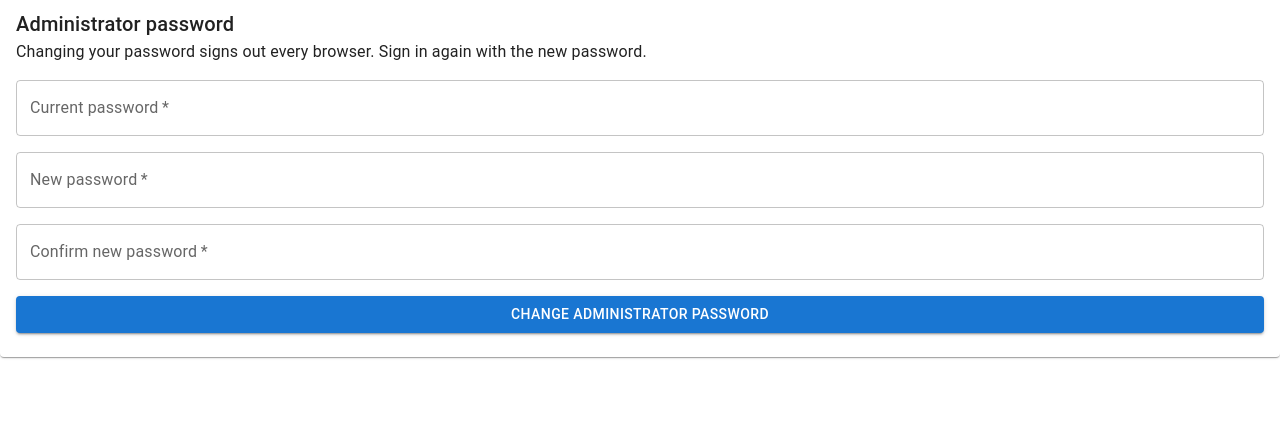
Scenario: rejects mismatched confirmation before submitting secrets
The image size is (1280, 424).
Type "current-example-password" into the password field labelled "Current password *" at (640, 108), box [16, 80, 1264, 136]
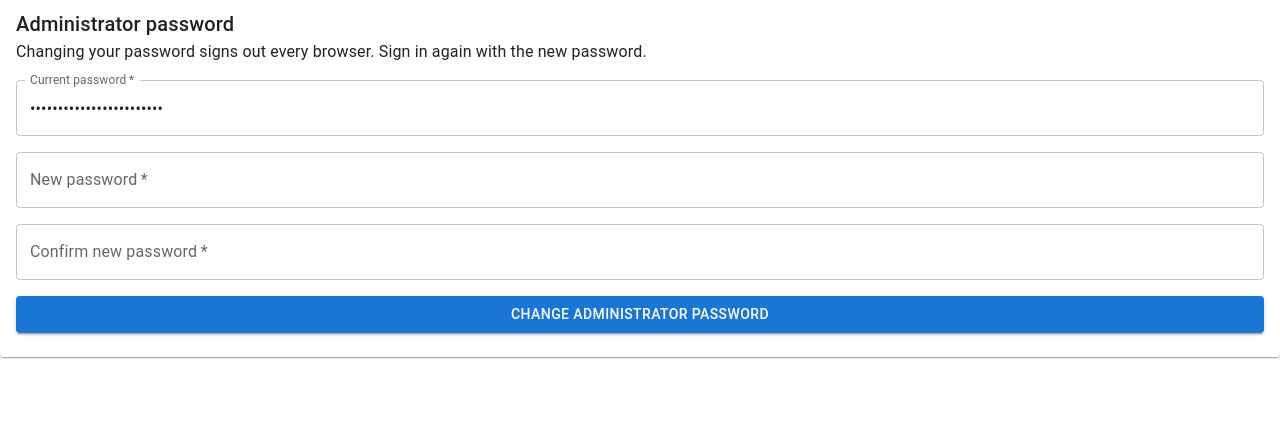
Type "new-example-password" into the password field labelled "New password *" at (640, 180), box [16, 152, 1264, 208]
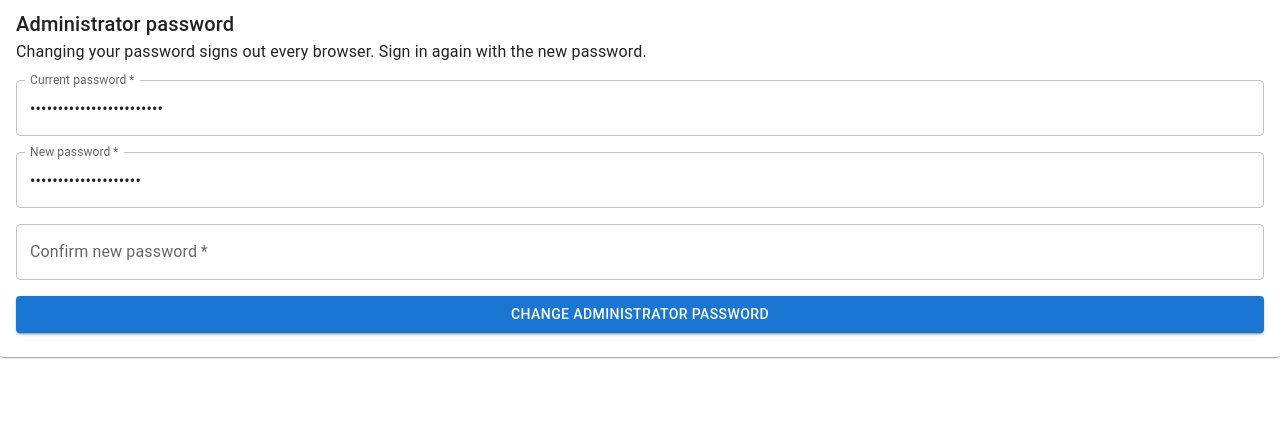
Type "different-password" into the password field labelled "Confirm new password *" at (640, 252), box [16, 224, 1264, 280]
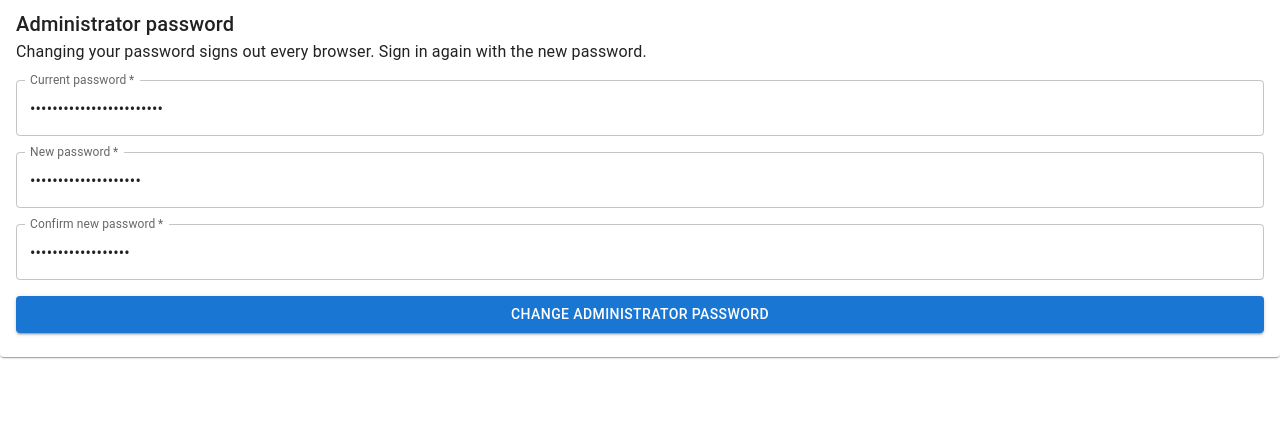
Click the button "Change administrator password" at (640, 314), box [16, 296, 1264, 332]
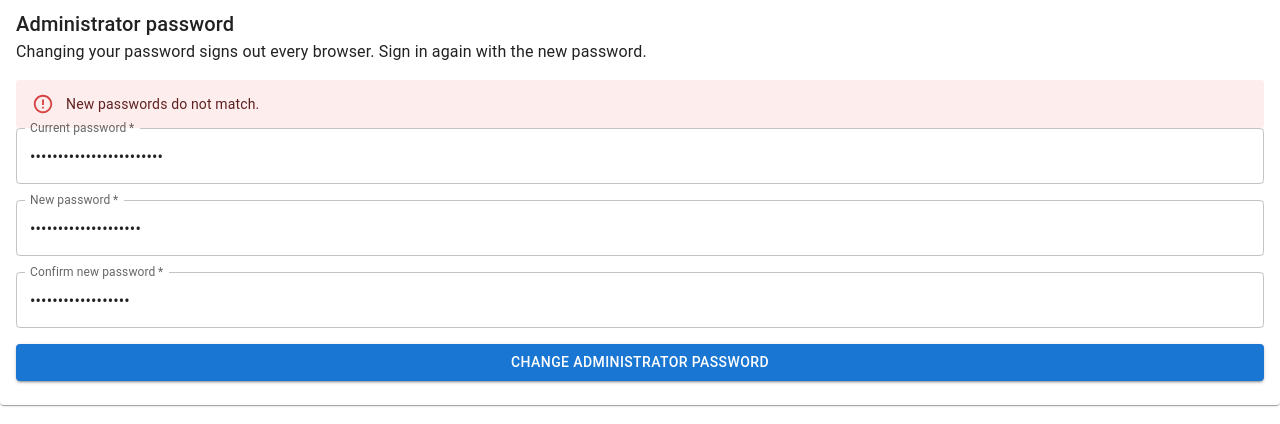
Result: the text "New passwords do not match." is shown at [66, 96, 259, 112]
